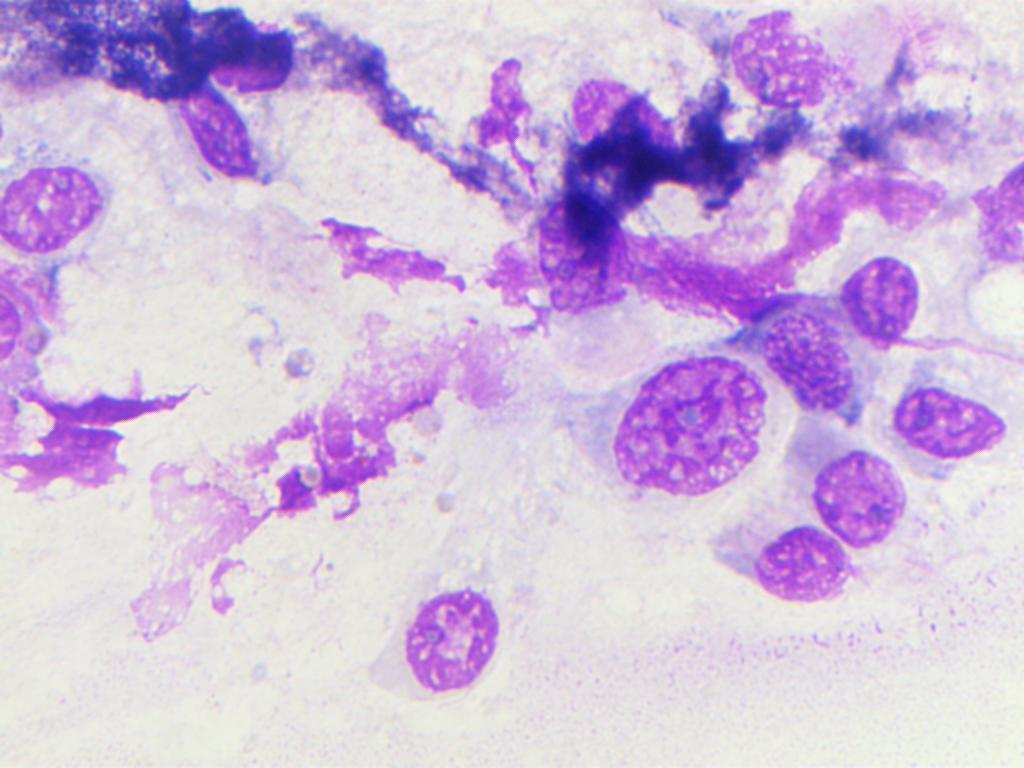artifact: (542, 103, 843, 251), (22, 0, 318, 101)
epithelial: (547, 353, 765, 497), (370, 553, 548, 699), (676, 511, 863, 612), (781, 416, 914, 548), (709, 5, 863, 119), (886, 360, 1023, 486), (0, 159, 109, 258), (765, 305, 854, 414), (837, 255, 926, 345)
